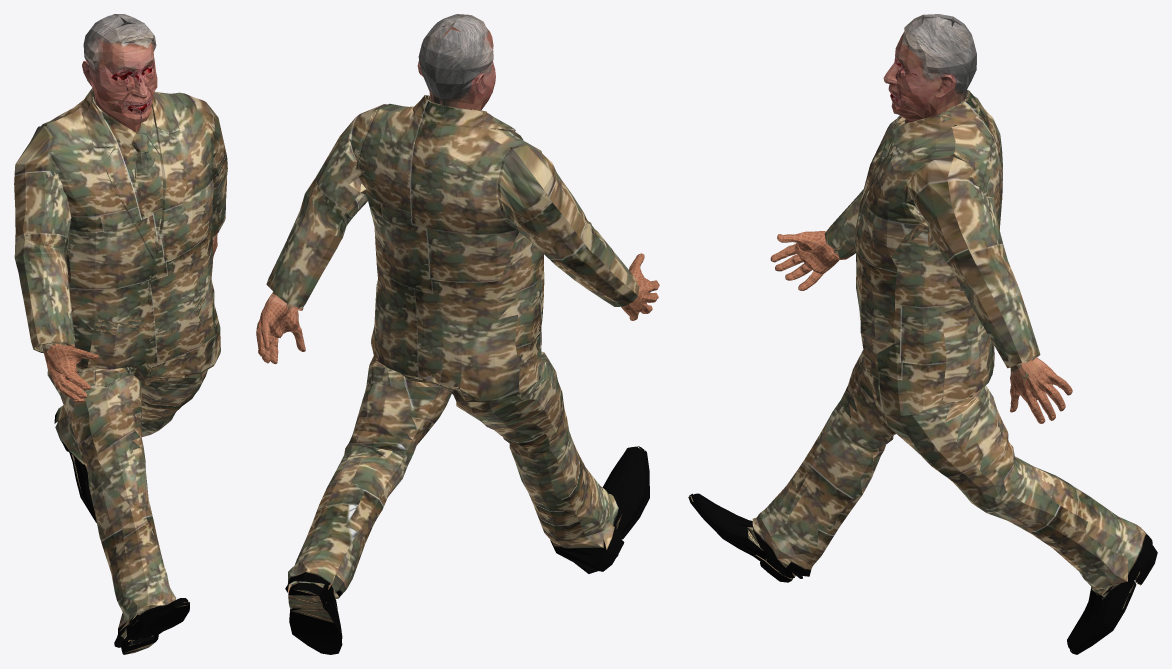
Rendered from zombie_000024.obj.
3 views of the same model, side by side, from view 1: azimuth 30°, elevation 25°; view 2: azimuth 150°, elevation 25°; view 3: azimuth 270°, elevation 25° (orthographic). The views are drawn at different scales.
Parts seen in each view (by area): view 1: Suit_coat_orig_9___De, objGeo_Hea_orig_9___D; view 2: Suit_coat_orig_9___De, objGeo_Hea_orig_9___D; view 3: Suit_coat_orig_9___De, objGeo_Hea_orig_9___D.
Part boxes in pixels (left/top/right/bottom): Suit_coat_orig_9___De: left=14, top=88, right=227, bottom=654; objGeo_Hea_orig_9___D: left=82, top=14, right=157, bottom=132; Suit_coat_orig_9___De: left=256, top=95, right=659, bottom=654; objGeo_Hea_orig_9___D: left=417, top=14, right=495, bottom=110; Suit_coat_orig_9___De: left=688, top=89, right=1157, bottom=654; objGeo_Hea_orig_9___D: left=883, top=14, right=976, bottom=123.
Bounding box in the file's own units: 0.8869 × 1.8 × 1.26.
